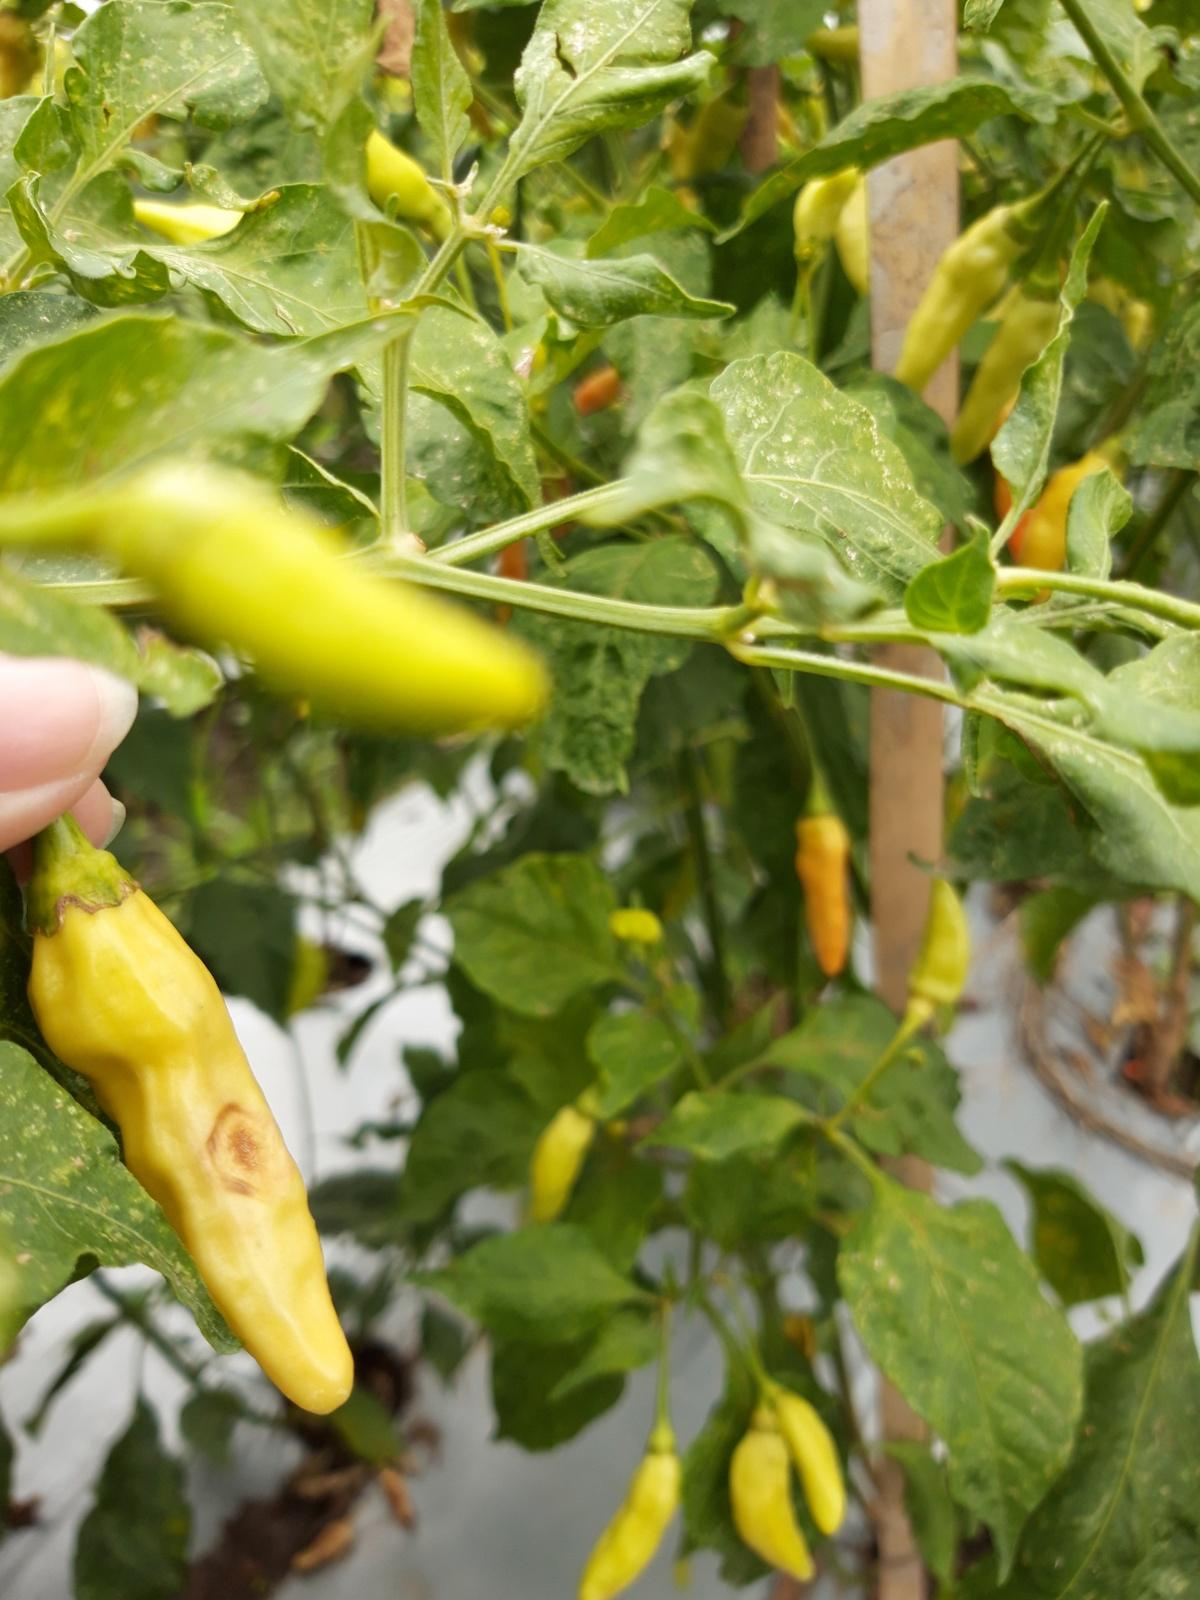cabai_normal: (112, 462, 548, 736), (888, 201, 1040, 393), (950, 277, 1064, 465), (576, 1423, 680, 1600), (731, 1414, 817, 1584), (765, 1387, 843, 1539), (794, 782, 850, 979), (905, 874, 971, 1019), (364, 127, 450, 238)
lalat_buah: (19, 843, 354, 1412)
